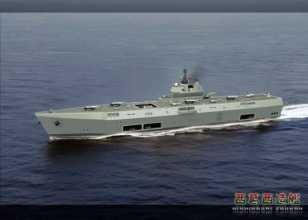warship: (31, 67, 285, 144)
